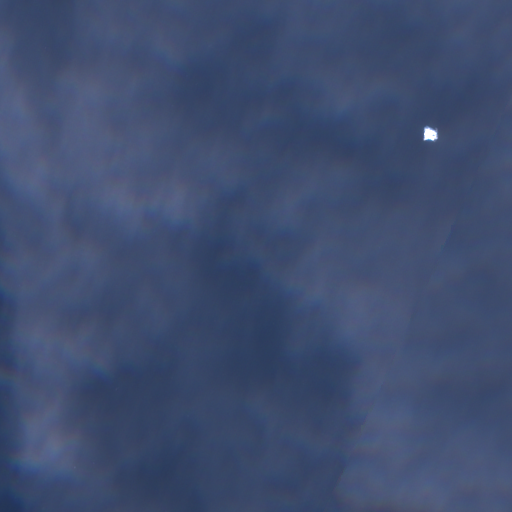Iceberg: (423, 126, 438, 141)
